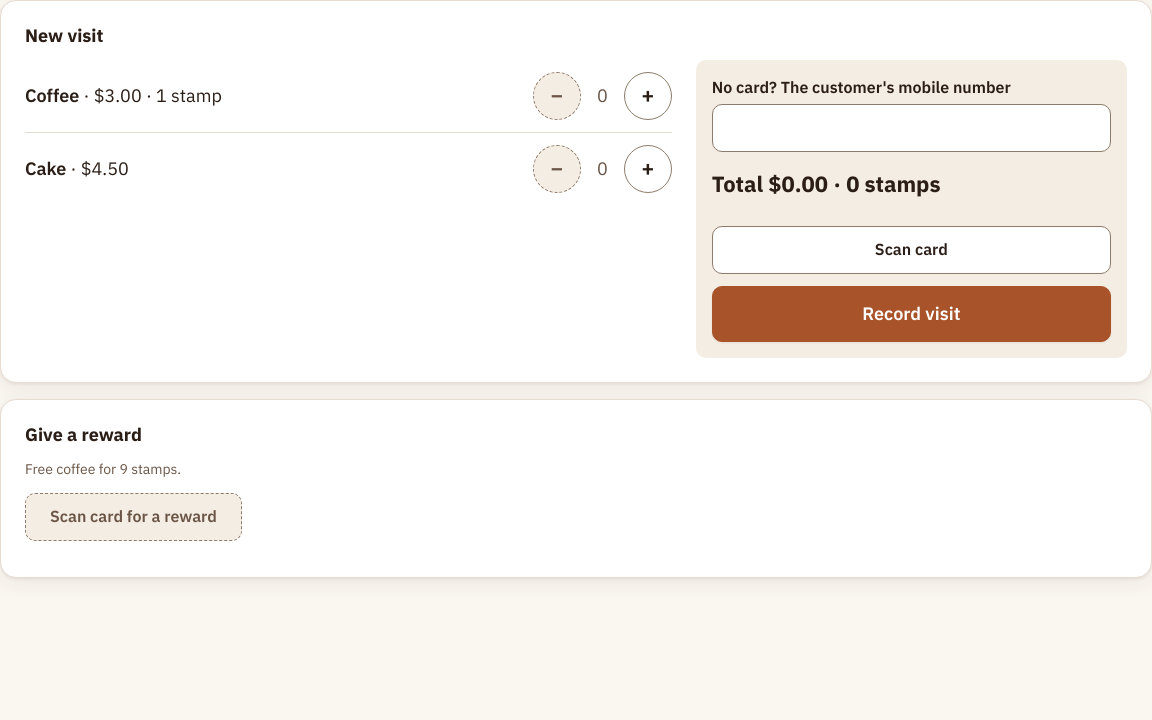
Test: visits › asks for a card and a valid number before saving, tying a bad number to its field
The width and height of the screenshot is (1152, 720).
Click the button named "One more Coffee" at (648, 96), box [624, 72, 672, 120]
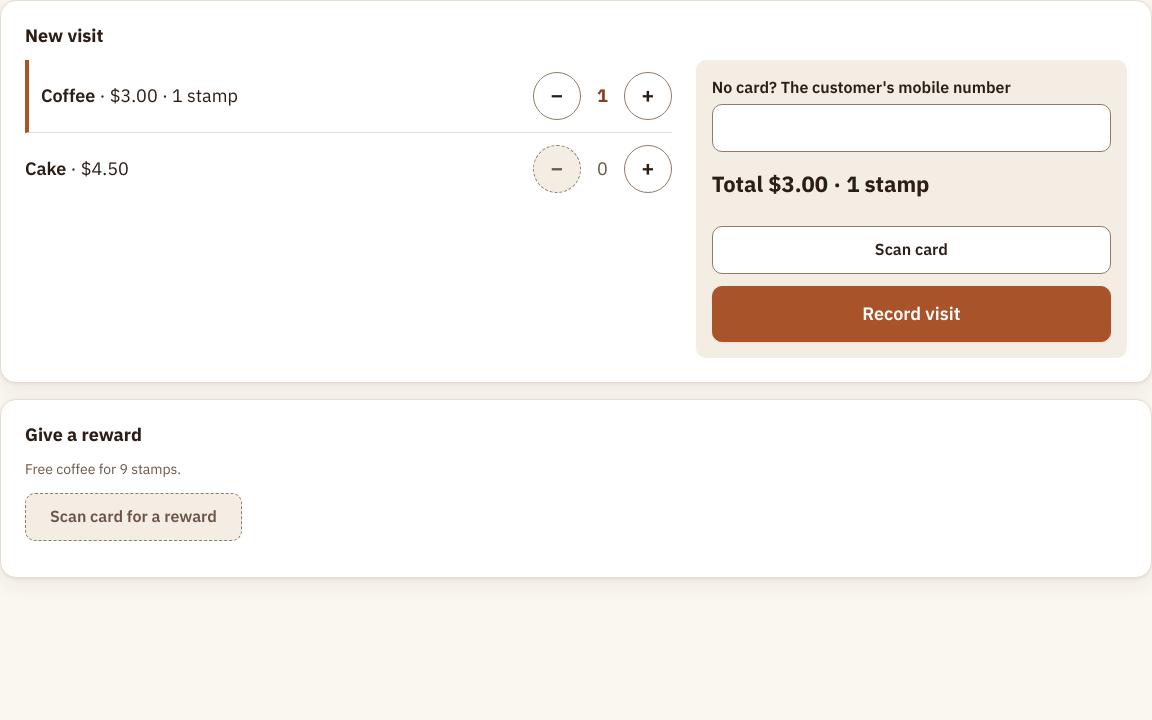
Click the button "Record visit" at (911, 314), box [712, 286, 1111, 342]
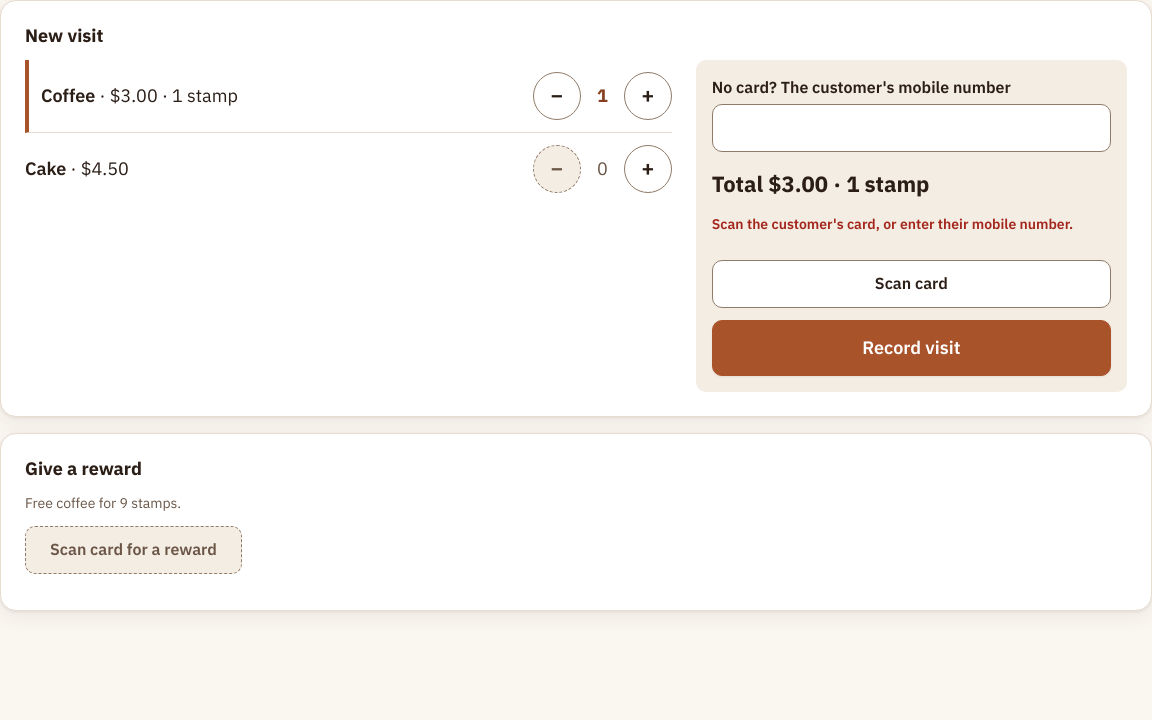
Expected: the message reads "Scan the customer's card, or enter their mobile number.", [712, 214, 1073, 235]
Type "12" into the field labelled "No card? The customer's mobile number" at (911, 128), box [712, 104, 1111, 152]
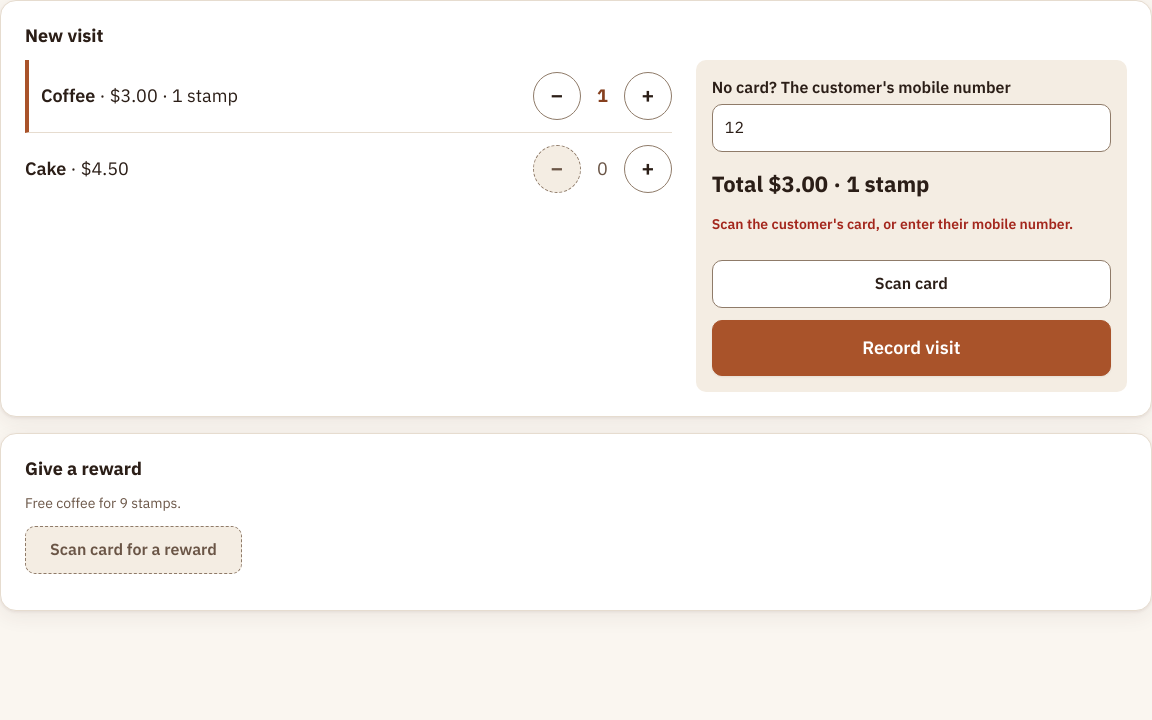
Click the button "Record visit" at (911, 348), box [712, 320, 1111, 376]
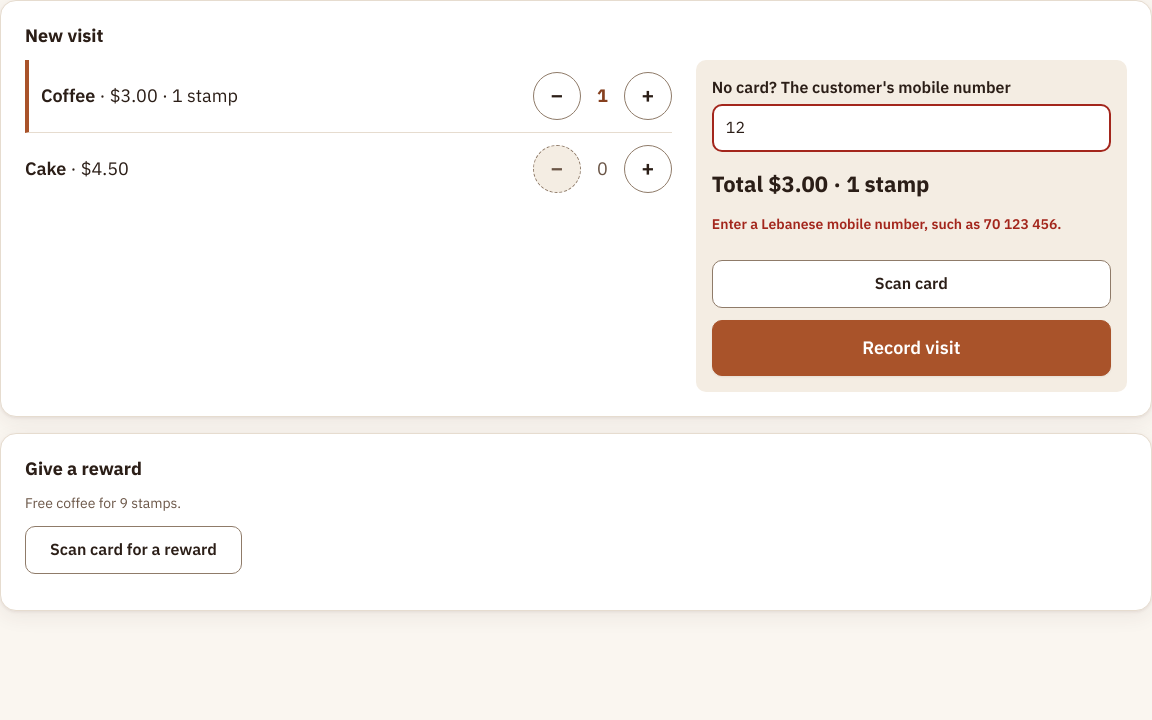
Expected: the message shows "Enter a Lebanese mobile number", [712, 214, 1062, 235]
